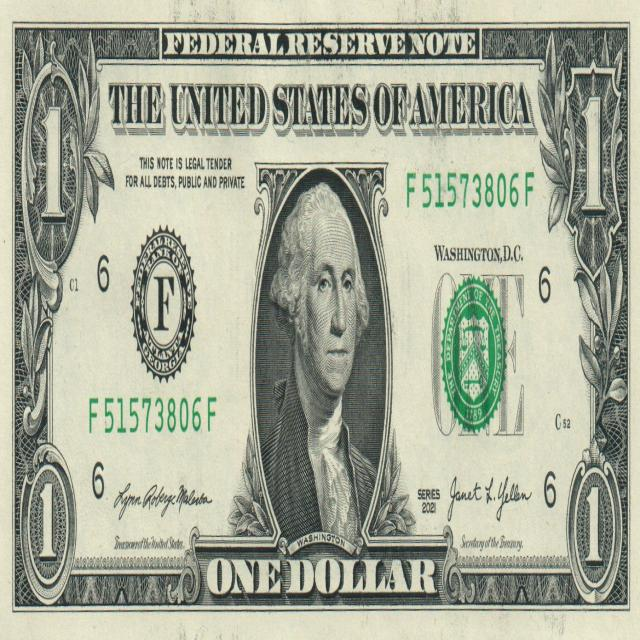SerialNumber: (407, 172, 534, 208), (90, 397, 216, 433)
